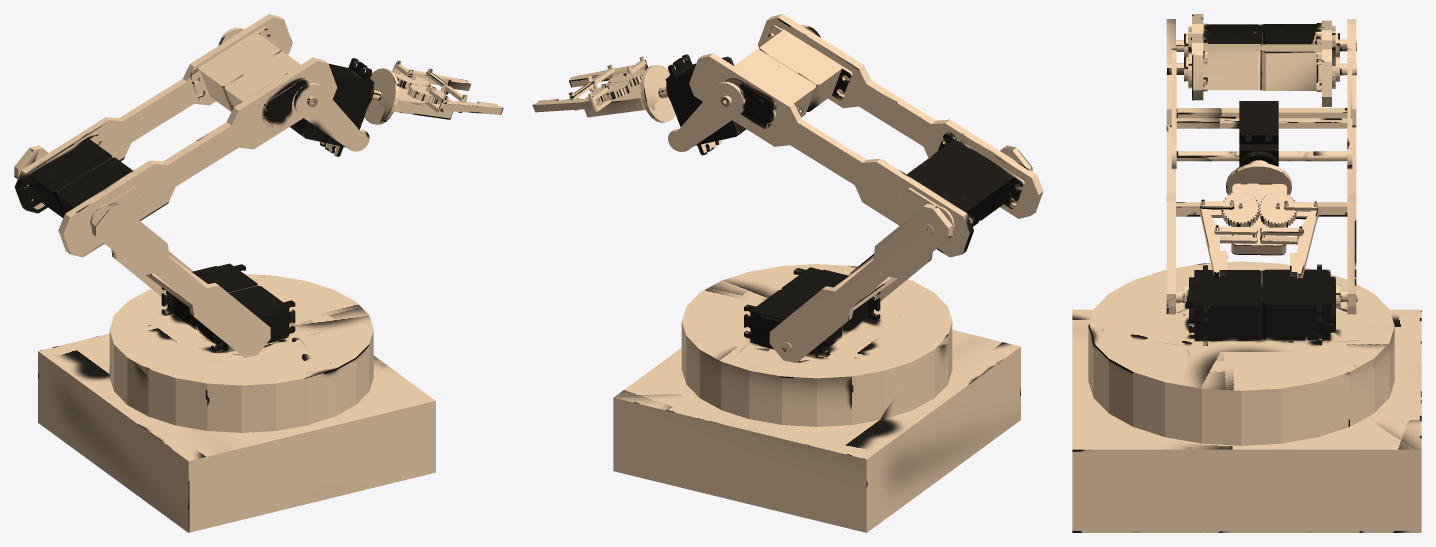
File: asset.glb
3 views of the same model, side by side, from view 1: azimuth 30°, elevation 25°; view 2: azimuth 150°, elevation 25°; view 3: azimuth 270°, elevation 25° (orthographic). The views are drawn at different scales.
Parts seen in each view (by area): view 1: arm; view 2: arm; view 3: arm.
Part boxes in pixels (bbox=[...]): arm: bbox=[14, 14, 503, 532]; arm: bbox=[532, 14, 1043, 532]; arm: bbox=[1072, 14, 1421, 532].
Size of the model in its own units: 49.44 by 40.75 by 28.51.
1 material, 1 textured.
